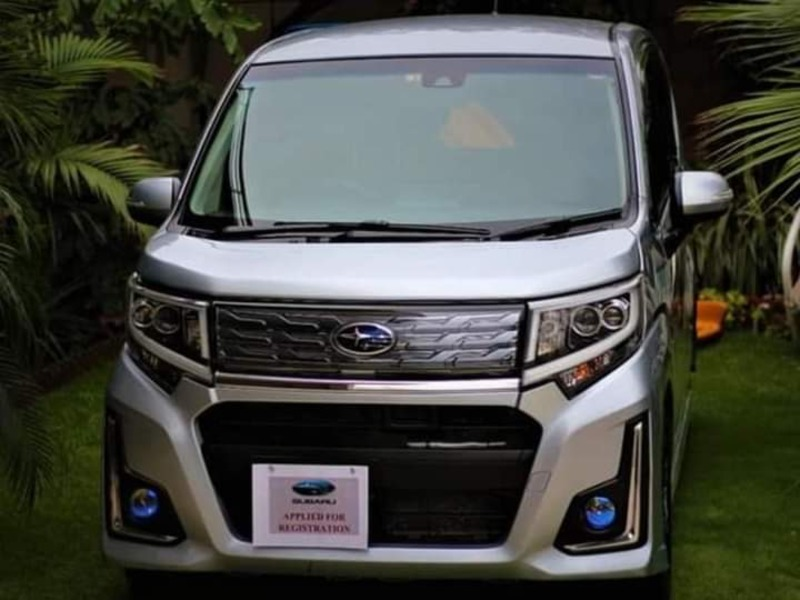License Plate: (249, 458, 378, 559)
